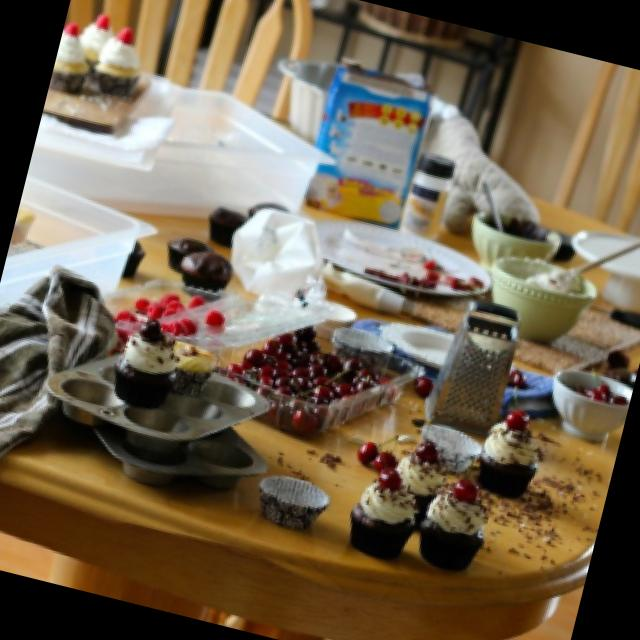mess: (0, 33, 640, 640)
